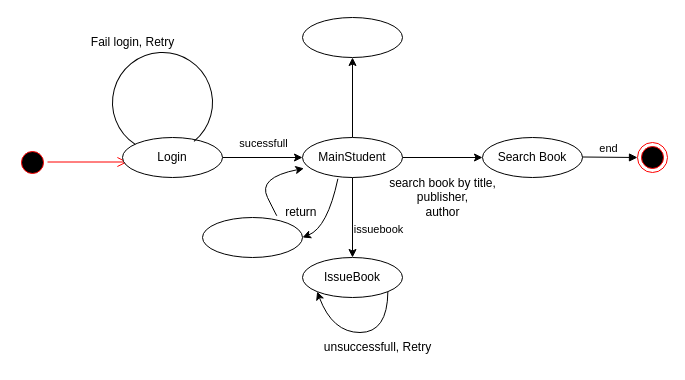
Some shapes in this 685 by 380 pixel diagram are drawn without their labels. The shapes that lost their labels are listed below. From the top down, each one's centre as x and y in pixels, then its label:
(x=352, y=37): Show Issued Books
(x=252, y=237): Return Book
